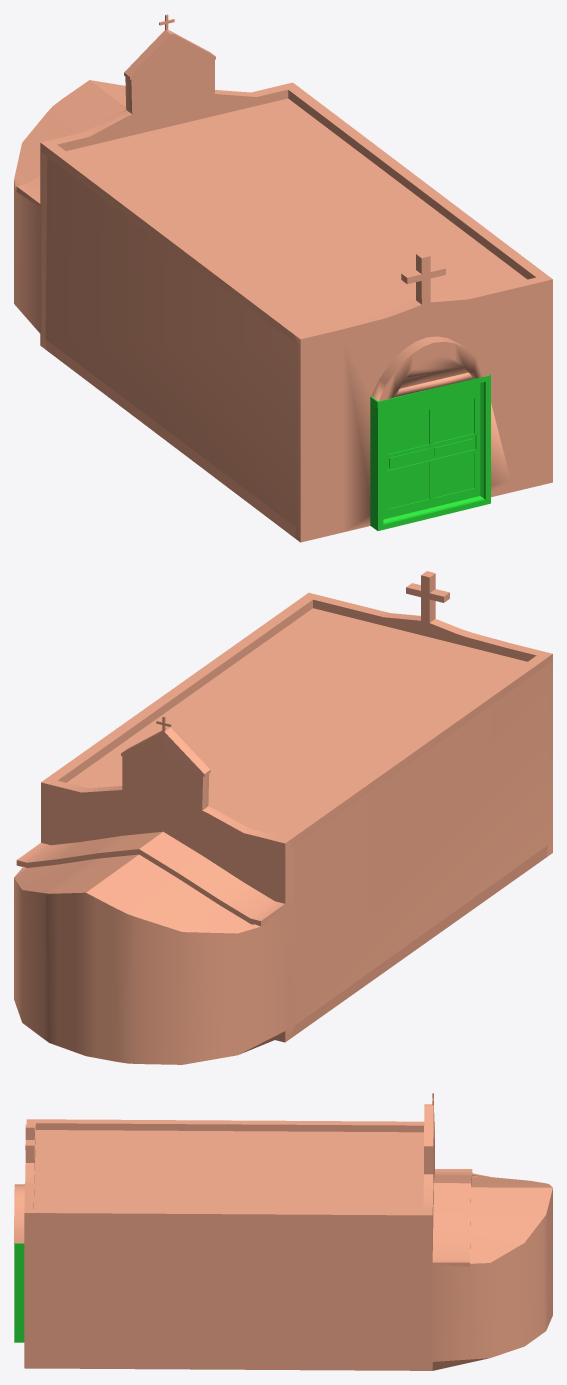
File: ChurchTest.fbx
The picture shows the model from 3 angles, top to bottom: view 1: azimuth 30°, elevation 25°; view 2: azimuth 150°, elevation 25°; view 3: azimuth 270°, elevation 25°; orthographic projection. The views are drawn at different scales.
Visible parts, largest first — view 1: s.0305_0, Cube; view 2: s.0305_0; view 3: s.0305_0, Cube.
Part boxes in pixels (x1,y1,x2,y2): s.0305_0: (14,14,552,542); Cube: (370,373,490,530); s.0305_0: (14,571,552,1064); s.0305_0: (14,1093,552,1370); Cube: (14,1243,24,1342).
Bounding box in the file's own units: 156 × 174 × 368.
